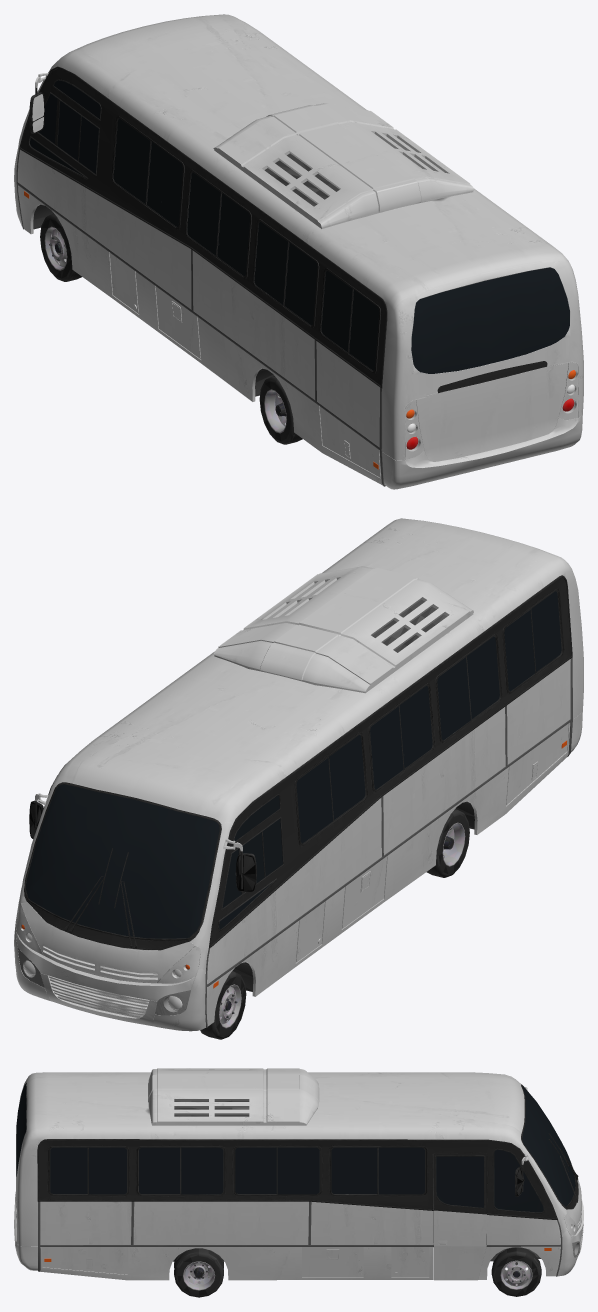
The model's file is buseta.glb.
The picture shows the model from 3 angles, top to bottom: view 1: azimuth 30°, elevation 25°; view 2: azimuth 150°, elevation 25°; view 3: azimuth 270°, elevation 25°; orthographic projection. The views are drawn at different scales.
Parts seen in each view (by area): view 1: carroceria_pintura, carroceria_vidrio, carroceria_textura, carroceria_detalle, rueda_tras_izq_detalle, rueda_del_izq_detalle; view 2: carroceria_pintura, carroceria_vidrio, carroceria_textura, carroceria_detalle, rueda_tras_izq_detalle, rueda_del_izq_detalle; view 3: carroceria_pintura, carroceria_vidrio, carroceria_textura, rueda_tras_der_detalle, rueda_del_der_detalle, carroceria_detalle.
Part boxes in pixels (x1,y1,x2,y2): carroceria_pintura: (14,14,583,489); carroceria_vidrio: (30,80,569,373); carroceria_textura: (16,66,387,486); carroceria_detalle: (29,87,339,396); rueda_tras_izq_detalle: (259,376,302,444); rueda_del_izq_detalle: (40,213,81,281); carroceria_pintura: (14,518,583,1031); carroceria_vidrio: (26,591,561,938); carroceria_textura: (24,575,572,1027); carroceria_detalle: (29,599,474,1004); rueda_tras_izq_detalle: (426,809,469,877); rueda_del_izq_detalle: (200,971,246,1039); carroceria_pintura: (14,1068,583,1280); carroceria_vidrio: (16,1083,575,1212); carroceria_textura: (37,1084,578,1276); rueda_tras_der_detalle: (174,1248,223,1297); rueda_del_der_detalle: (491,1247,541,1296); carroceria_detalle: (26,1085,567,1265).
Size of the model in its own units: 2.57 by 2.81 by 7.8.
Materials: 6 (4 with a texture image).
